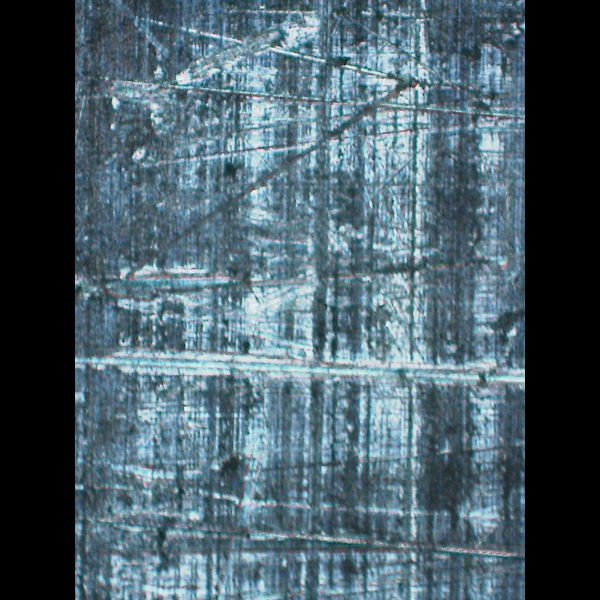d: (96, 0, 512, 580)
